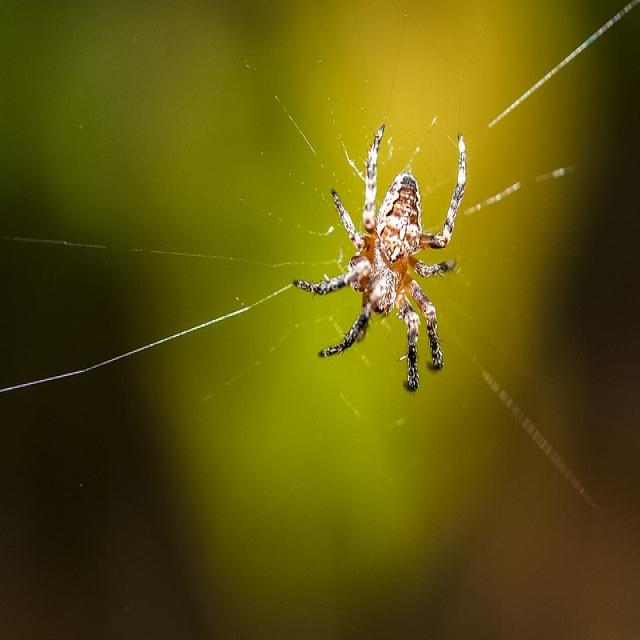spyder: (294, 136, 468, 392)
